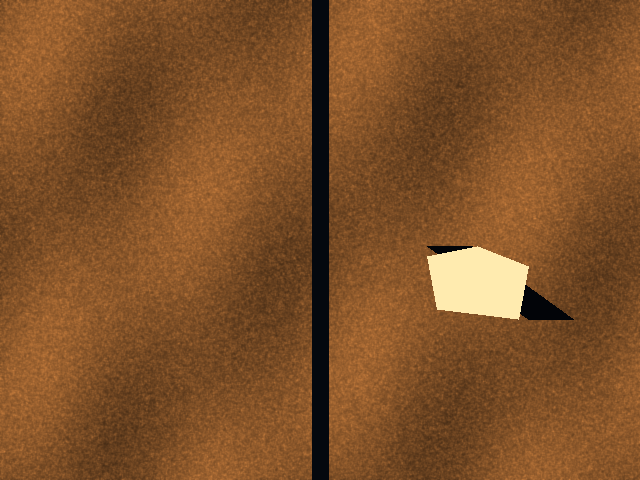Unknown Debris: (427, 246, 528, 319)
